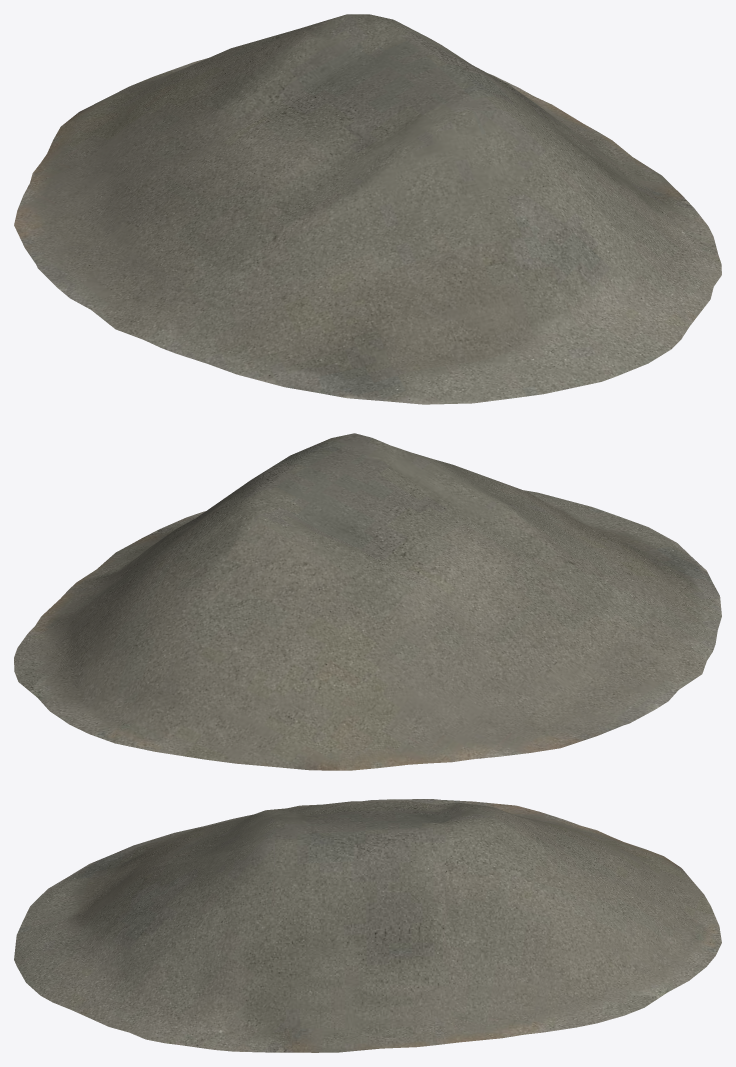
Rendered from Sand Pile.fbx.
3 views of the same model, one above another, from view 1: azimuth 30°, elevation 25°; view 2: azimuth 150°, elevation 25°; view 3: azimuth 270°, elevation 25° (orthographic). The views are drawn at different scales.
Visible parts, largest first — view 1: Rock_Dunes__2_.001; view 2: Rock_Dunes__2_.001; view 3: Rock_Dunes__2_.001.
Boxes of the visible parts, x1,y1,x2,y2 form: Rock_Dunes__2_.001: [14, 14, 721, 404]; Rock_Dunes__2_.001: [14, 433, 721, 770]; Rock_Dunes__2_.001: [14, 799, 721, 1052].
Bounding box in the file's own units: 9.02 × 2.53 × 10.83.
